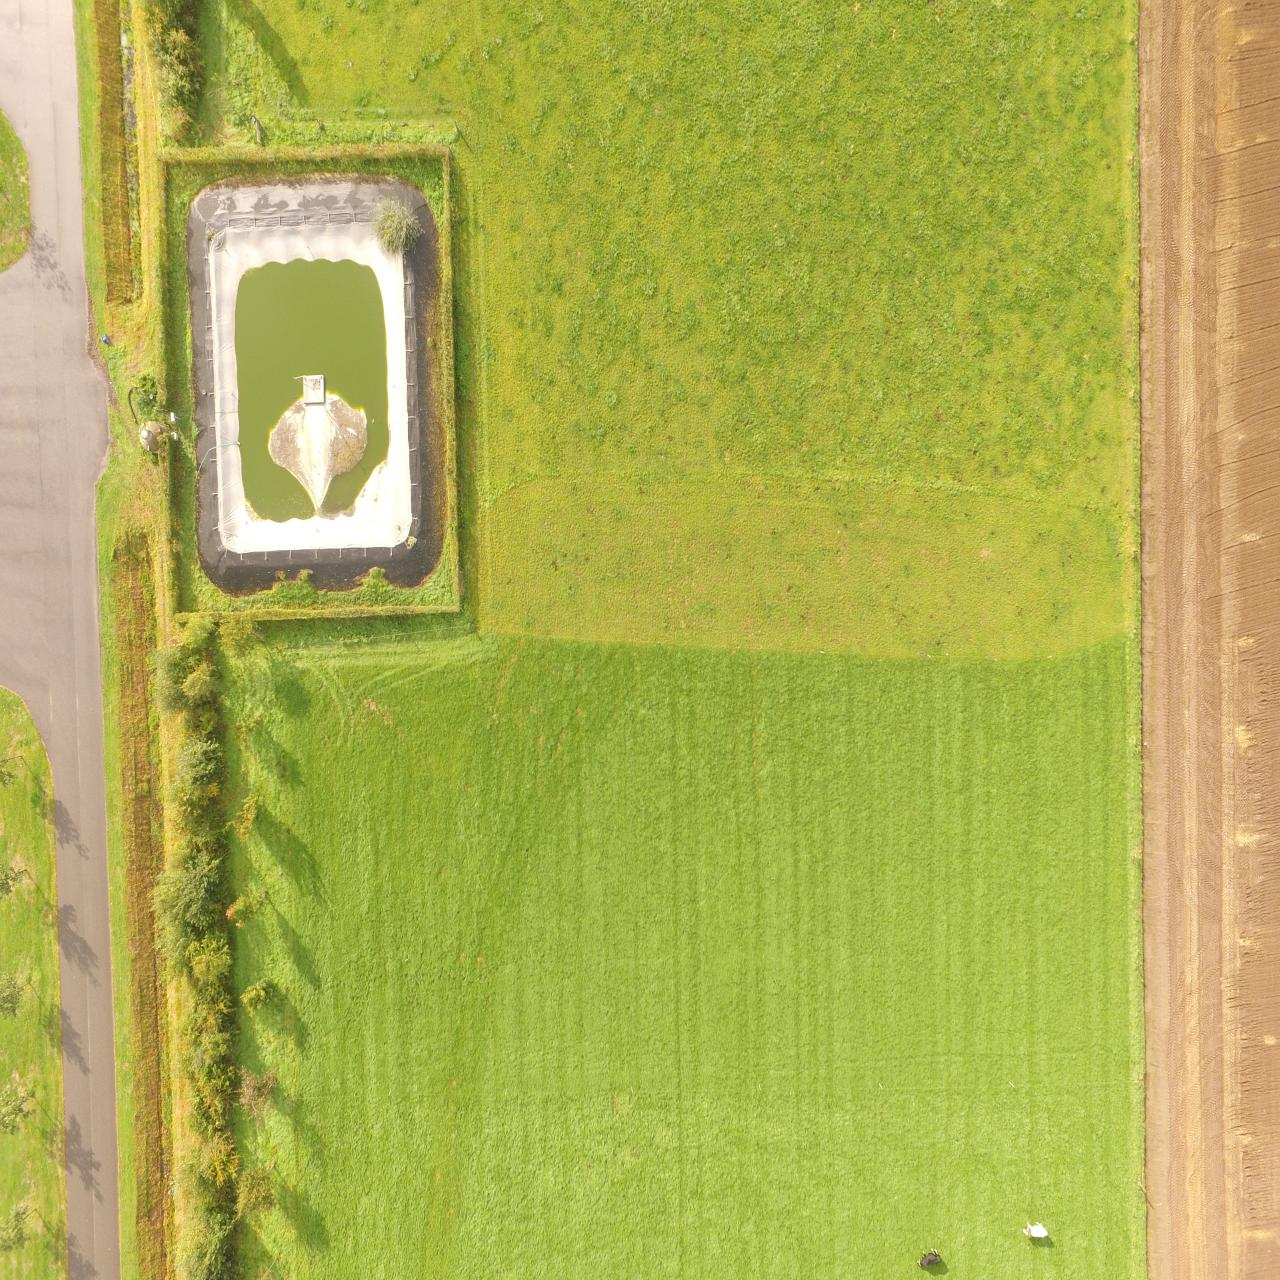cow: (919, 1243, 945, 1274), (1023, 1223, 1049, 1247)
